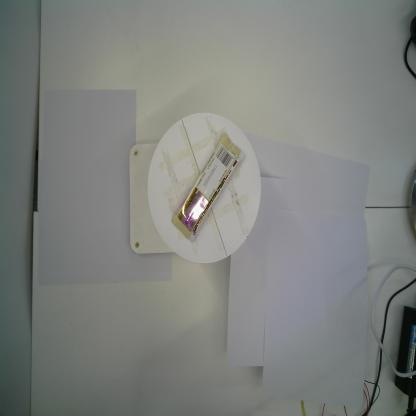Chocolate: (169, 131, 246, 242)
